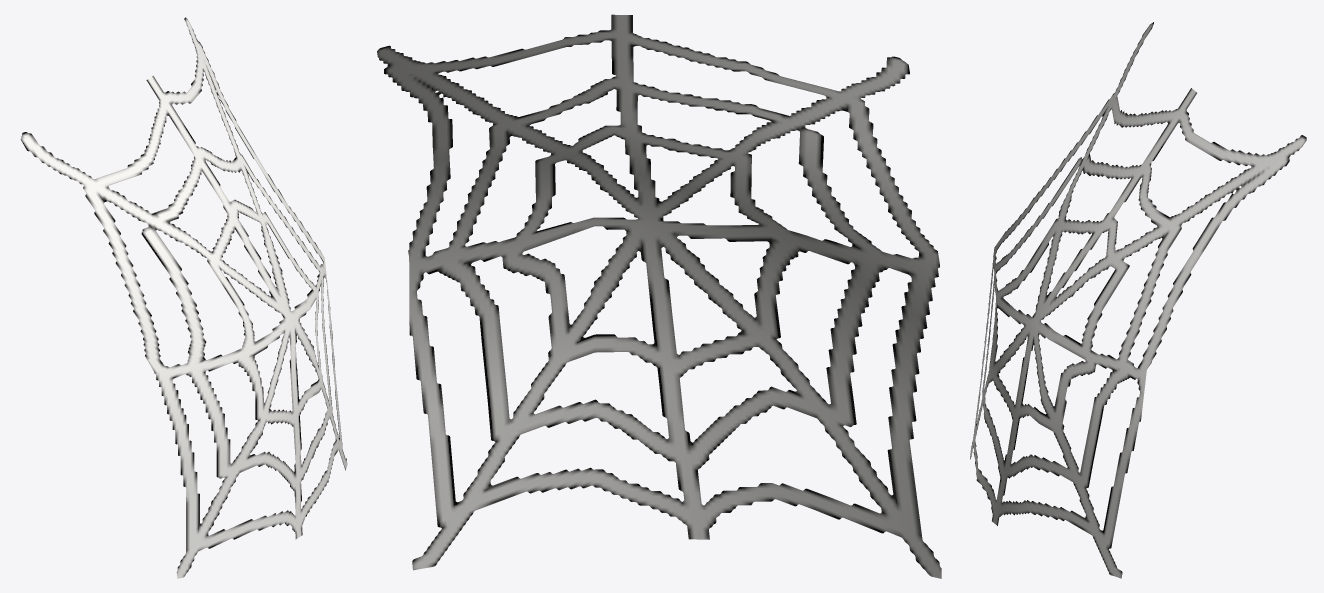
Rendered from Spider Web 002.fbx.
3 renders of one model, left to right at view 1: azimuth 30°, elevation 25°; view 2: azimuth 150°, elevation 25°; view 3: azimuth 270°, elevation 25°, orthographic. The views are drawn at different scales.
Visible parts, largest first — view 1: Cube.013; view 2: Cube.013; view 3: Cube.013.
Part boxes in pixels (x1,y1,x2,y2): Cube.013: (20,17,347,578); Cube.013: (377,14,941,578); Cube.013: (970,22,1306,578).
Size of the model in its own units: 20.17 by 24.41 by 18.44.
Materials: 1 (1 with a texture image).
